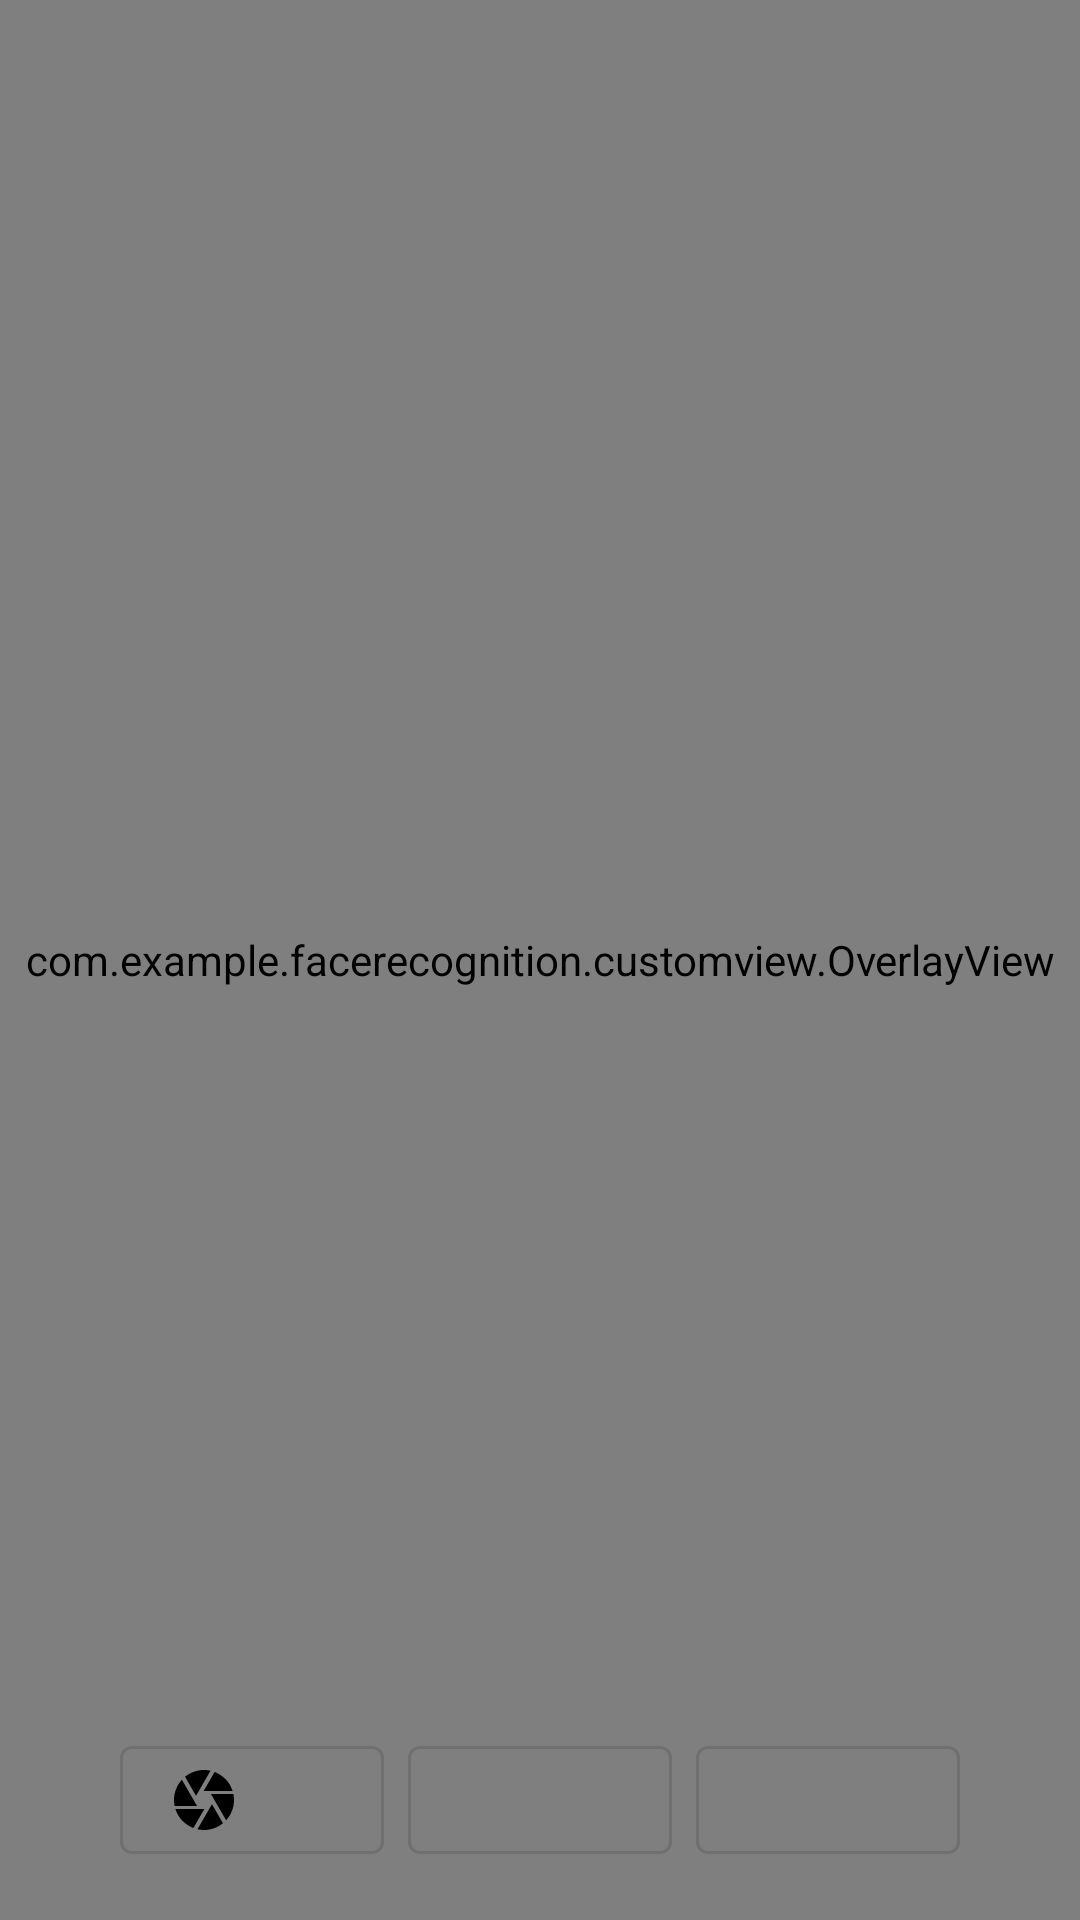

Where to tap for icons on this 1080px×1920px app screen, as (x=x, y=y):
camera: (x=204, y=1800)
